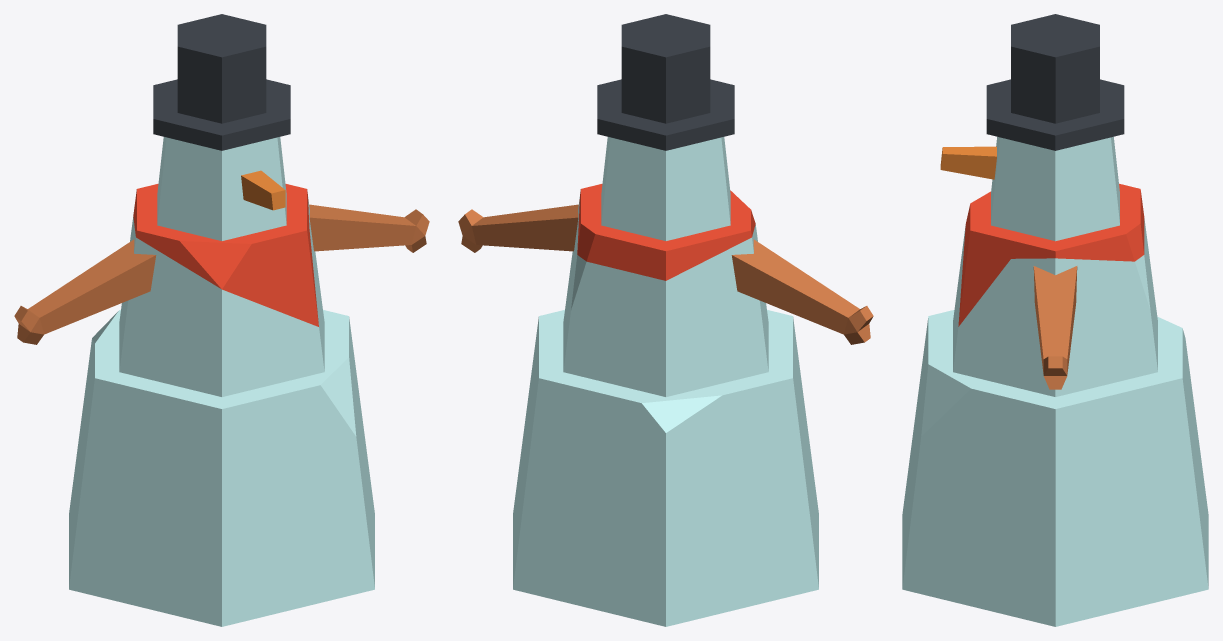
File: snowmanFancy.fbx
3 renders of one model, left to right at view 1: azimuth 30°, elevation 25°; view 2: azimuth 150°, elevation 25°; view 3: azimuth 270°, elevation 25°, orthographic.
Parts seen in each view (by area): view 1: snowmanFancy; view 2: snowmanFancy; view 3: snowmanFancy.
Boxes of the visible parts, x1,y1,x2,y2 form: snowmanFancy: [14, 14, 429, 626]; snowmanFancy: [458, 14, 873, 626]; snowmanFancy: [902, 14, 1208, 626].
Bounding box in the file's own units: 6.93 × 8.38 × 4.5.
